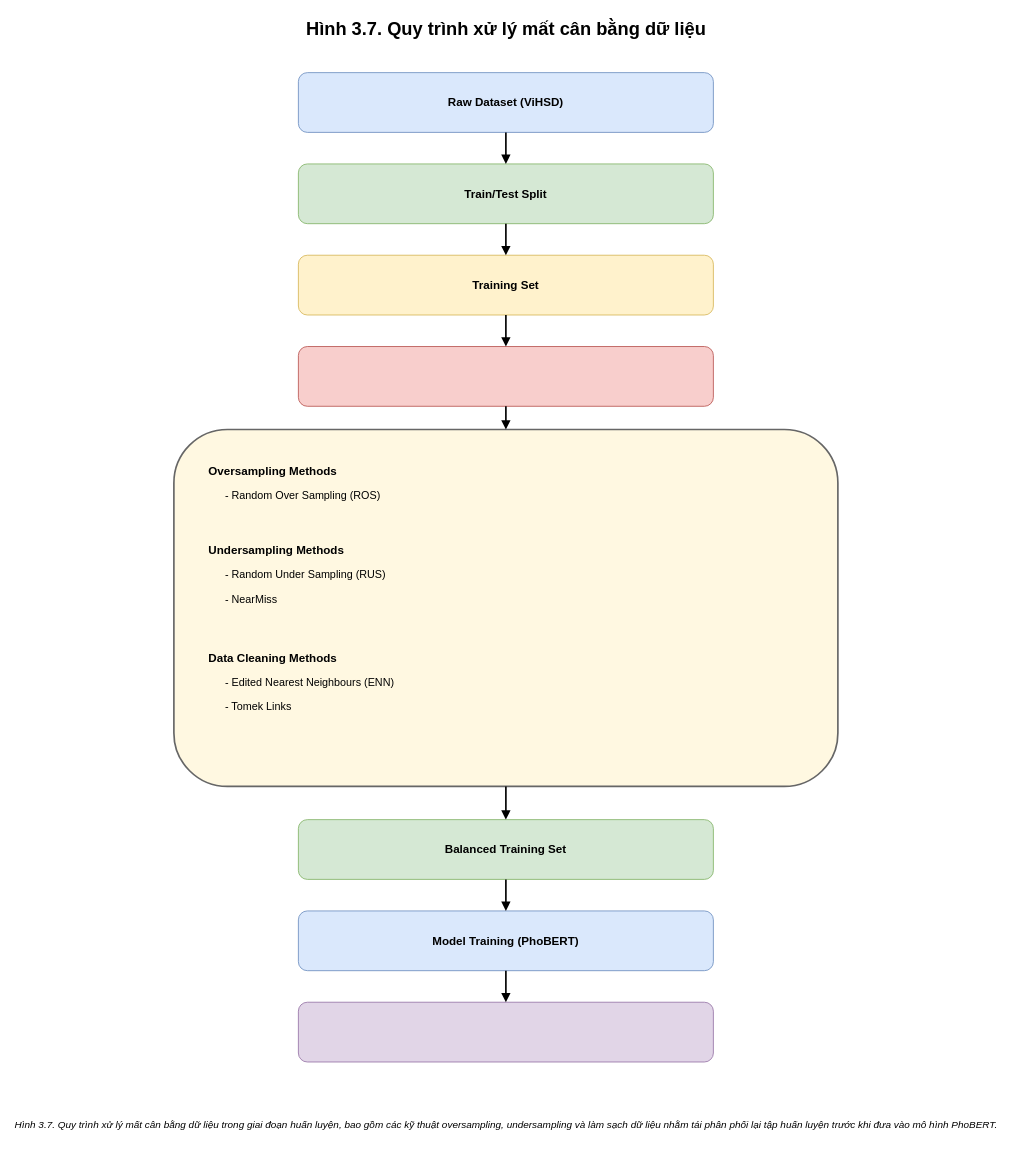
Image size: 1011x1162. Some labels were removed from this diagram. Each missing label, with the centre of its shape:
"Evaluation" belongs at point (505, 1031).
"Imbalance Handling Module" belongs at point (505, 376).
